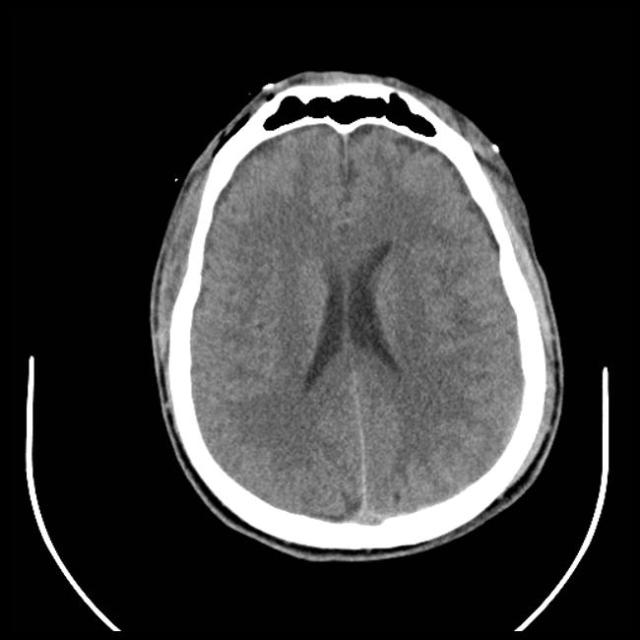lesion: (147, 69, 565, 556)
